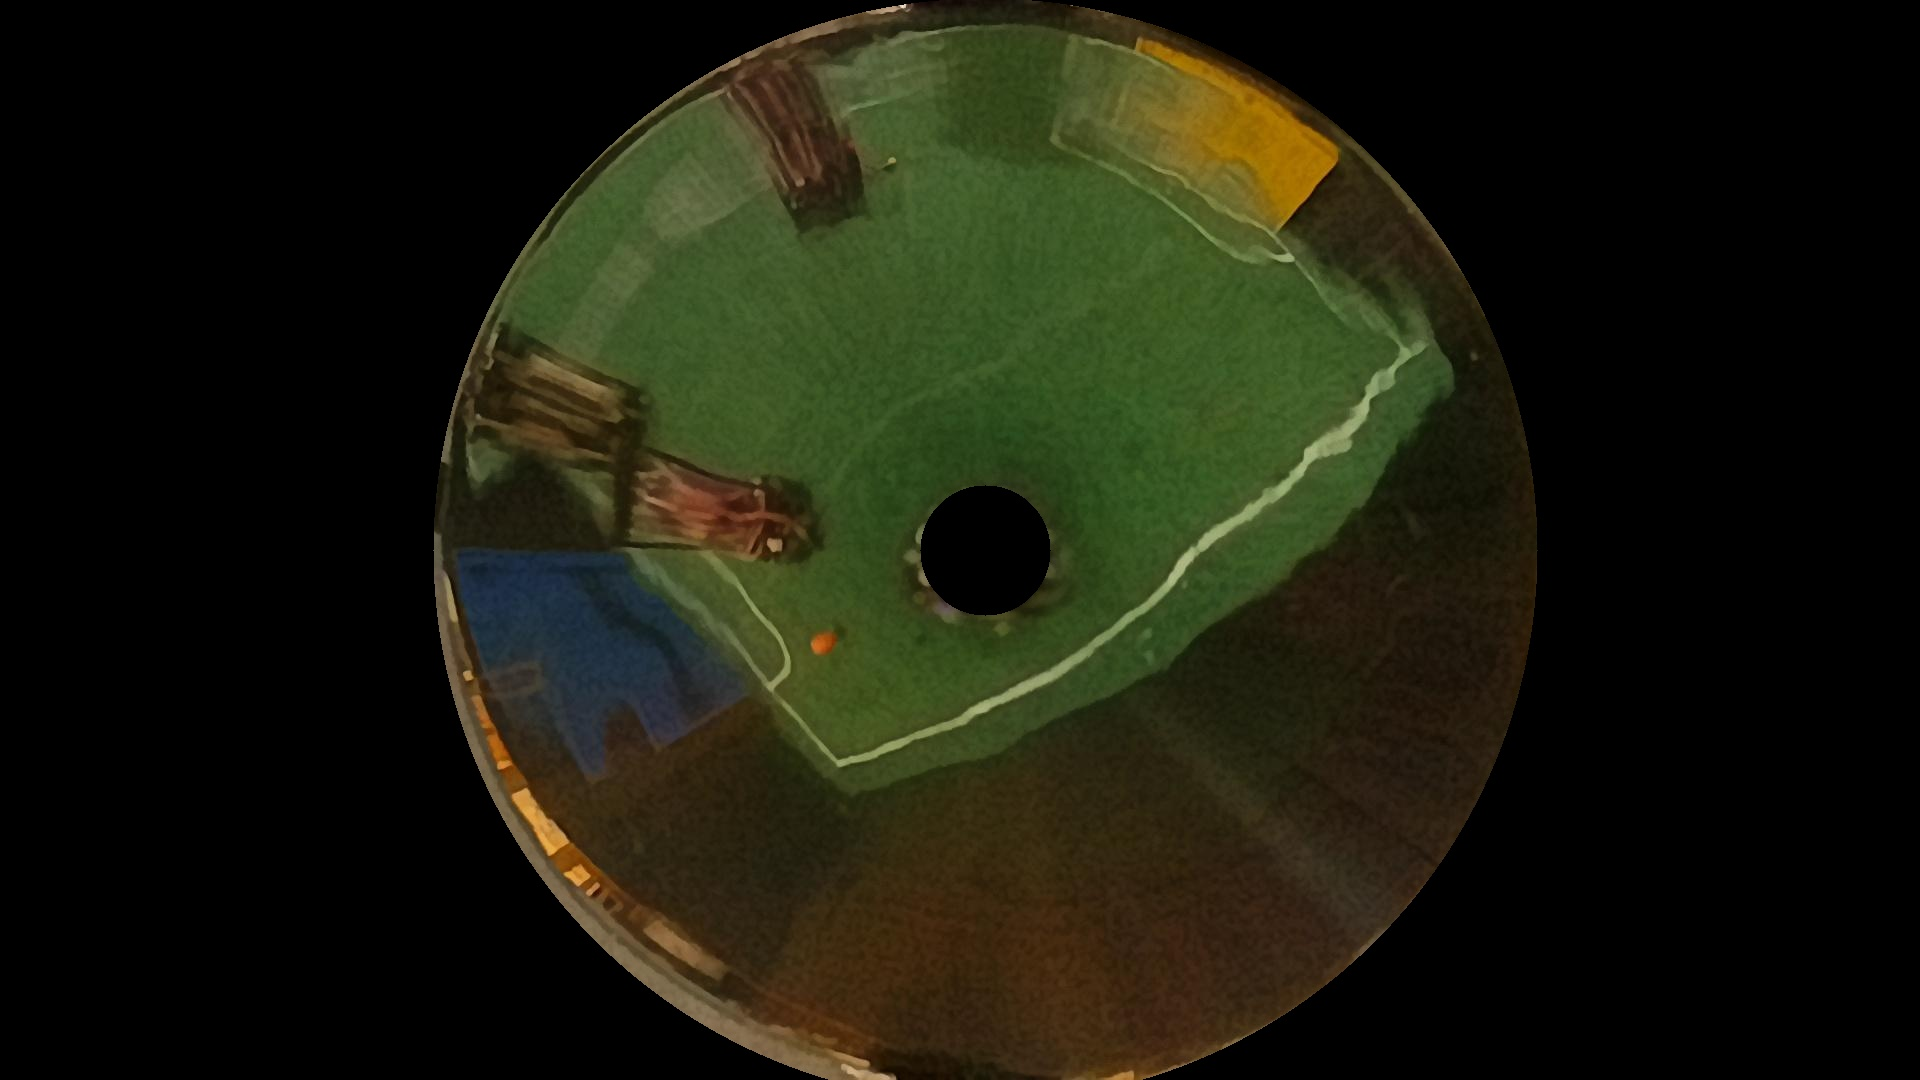ball: (811, 632, 836, 653)
blue-goal: (444, 549, 765, 794)
robots: (460, 326, 642, 465), (735, 51, 866, 227), (646, 451, 810, 562)
yellow-goal: (1141, 34, 1348, 241)
